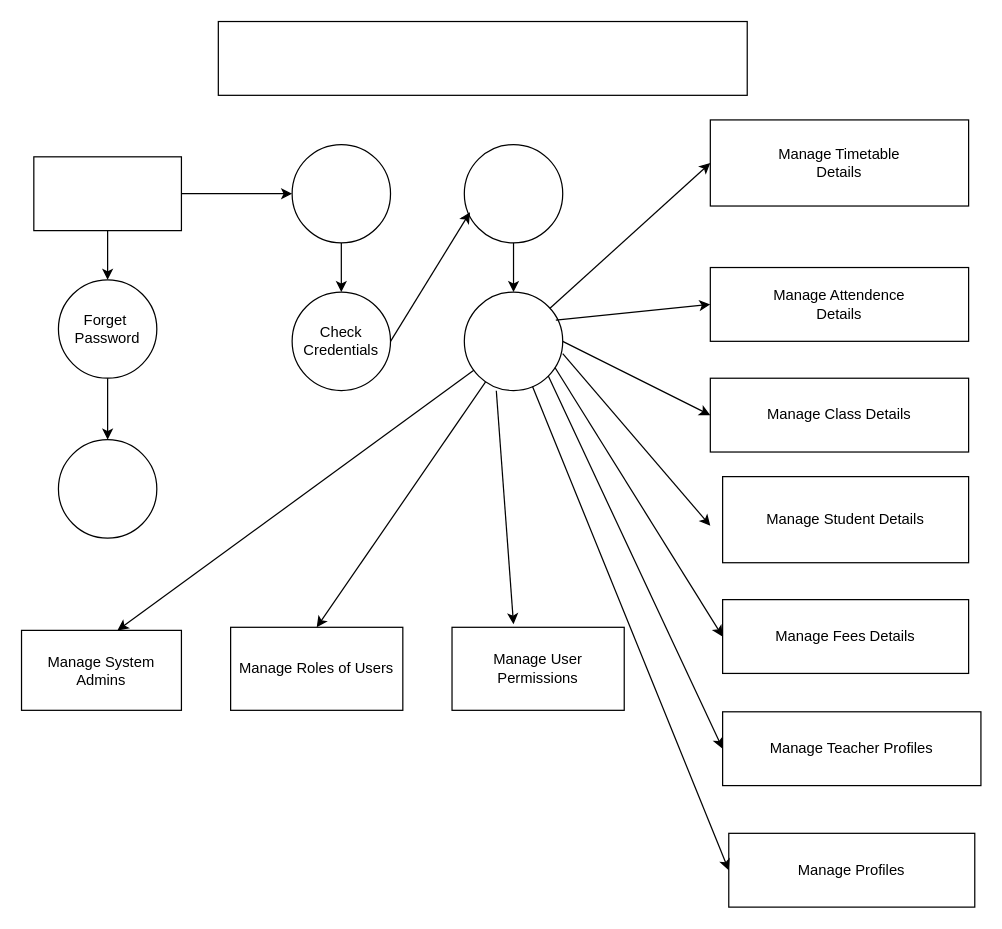
The diagram is 1002 pixels wide and 929 high, and some of its shapes have lost their labels. Each missing label, with the box of its shape:
Admin: (33, 156, 181, 231)
Check Roles of Access: (463, 143, 563, 243)
Login to System: (291, 143, 391, 243)
Manage Modules: (463, 291, 563, 391)
Send Email to User: (57, 438, 157, 538)
Student Information System: (217, 20, 747, 95)
